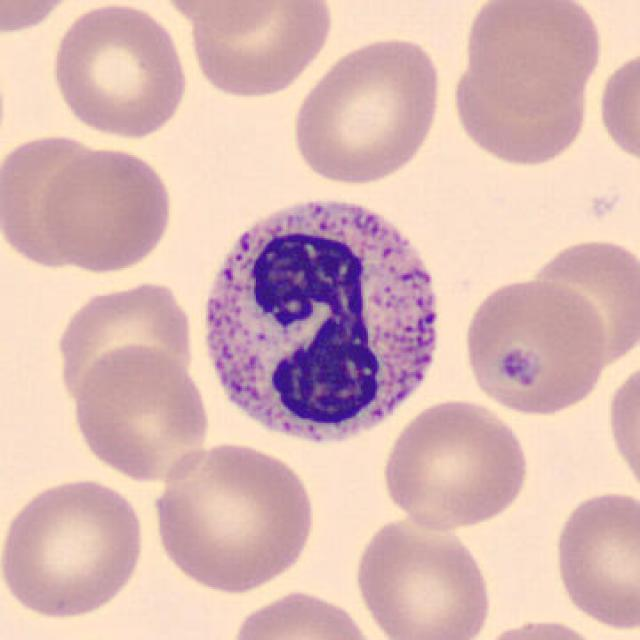Neutrophil: (190, 183, 455, 457)
Platelets: (498, 338, 548, 392)
RBC: (146, 437, 320, 594), (286, 32, 446, 187), (457, 273, 611, 420), (0, 472, 149, 622), (444, 34, 601, 170), (379, 395, 533, 532), (67, 340, 212, 485), (46, 0, 190, 141), (50, 275, 199, 409), (348, 511, 496, 640), (37, 143, 176, 275), (459, 0, 606, 115), (519, 231, 637, 370), (183, 0, 337, 100), (0, 133, 108, 266), (550, 485, 638, 633), (228, 585, 380, 640), (594, 42, 638, 170), (604, 354, 640, 501), (151, 0, 285, 32), (469, 615, 612, 640), (0, 0, 82, 39)
